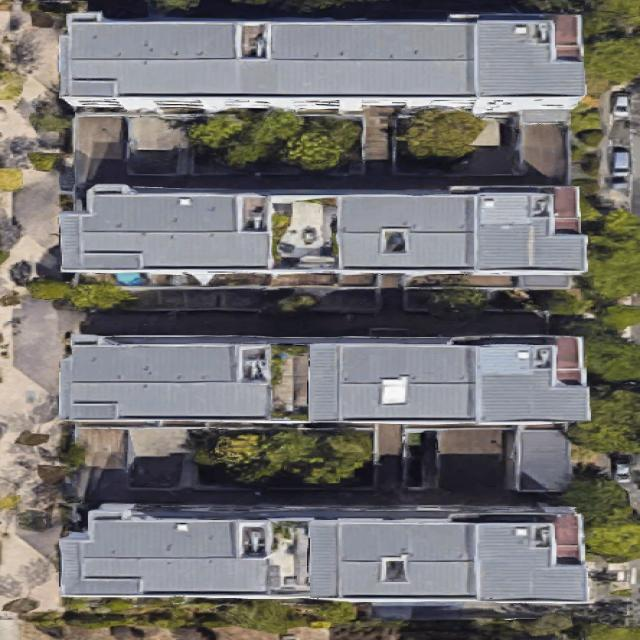immeuble: (59, 12, 583, 114), (62, 183, 586, 285), (60, 504, 587, 603), (60, 335, 588, 425)
